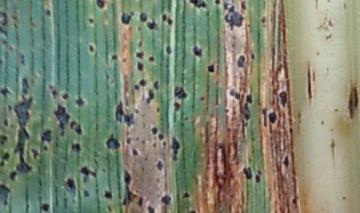tarspot: (9, 76, 34, 182), (228, 88, 256, 121), (222, 1, 246, 31), (53, 101, 72, 137), (114, 100, 137, 129), (121, 170, 138, 207), (346, 83, 360, 121), (304, 59, 314, 101), (104, 133, 122, 152), (315, 16, 335, 32), (117, 10, 135, 27), (63, 177, 80, 194), (170, 135, 181, 161), (78, 165, 98, 179), (1, 10, 10, 37), (1, 184, 12, 206), (68, 120, 84, 135), (329, 136, 337, 166), (173, 85, 188, 100), (278, 90, 289, 109), (40, 129, 53, 145), (260, 107, 269, 129), (144, 87, 155, 104), (1, 85, 14, 99), (145, 16, 157, 31), (267, 111, 279, 126), (73, 95, 86, 108), (243, 165, 253, 181), (188, 1, 208, 9), (236, 53, 246, 69), (159, 193, 172, 205), (138, 10, 149, 23), (191, 46, 204, 57), (70, 142, 81, 155), (282, 154, 291, 169), (39, 202, 51, 213), (102, 189, 113, 201), (134, 59, 144, 72), (18, 52, 27, 66), (94, 1, 109, 9), (259, 13, 267, 28), (29, 148, 39, 160), (155, 158, 164, 171), (151, 79, 161, 90), (49, 89, 59, 100), (144, 204, 156, 213), (60, 92, 72, 101), (207, 62, 216, 73), (164, 44, 173, 55), (323, 32, 334, 41), (87, 43, 95, 55), (166, 16, 174, 28), (160, 12, 168, 24), (1, 134, 9, 146), (138, 77, 147, 87), (181, 190, 191, 199), (10, 21, 19, 31), (105, 203, 114, 213), (248, 51, 256, 62), (137, 196, 144, 208), (86, 16, 95, 25), (135, 39, 144, 48), (81, 189, 90, 198), (46, 83, 55, 92), (1, 152, 10, 161), (44, 7, 52, 17), (172, 101, 180, 111), (134, 50, 144, 58), (290, 195, 297, 206), (125, 136, 132, 147), (313, 1, 320, 12), (11, 13, 19, 22), (318, 118, 326, 127), (149, 125, 156, 135), (130, 146, 137, 156), (240, 1, 247, 11), (2, 117, 8, 128), (110, 53, 118, 61), (332, 106, 340, 114), (133, 83, 140, 92), (147, 55, 155, 62), (134, 107, 141, 115), (328, 126, 335, 134), (7, 103, 13, 112), (133, 133, 139, 142), (157, 133, 164, 140), (42, 145, 49, 152), (183, 114, 190, 121), (100, 166, 107, 173), (229, 41, 236, 48), (155, 104, 160, 113), (198, 95, 205, 101), (8, 45, 14, 52), (340, 194, 346, 201), (179, 120, 185, 127), (151, 141, 157, 148), (140, 138, 146, 145), (315, 49, 320, 57), (1, 160, 7, 166), (143, 155, 149, 161), (2, 39, 9, 44), (162, 140, 166, 148), (188, 209, 196, 213), (214, 1, 220, 5), (1, 56, 3, 66), (326, 1, 330, 4)
